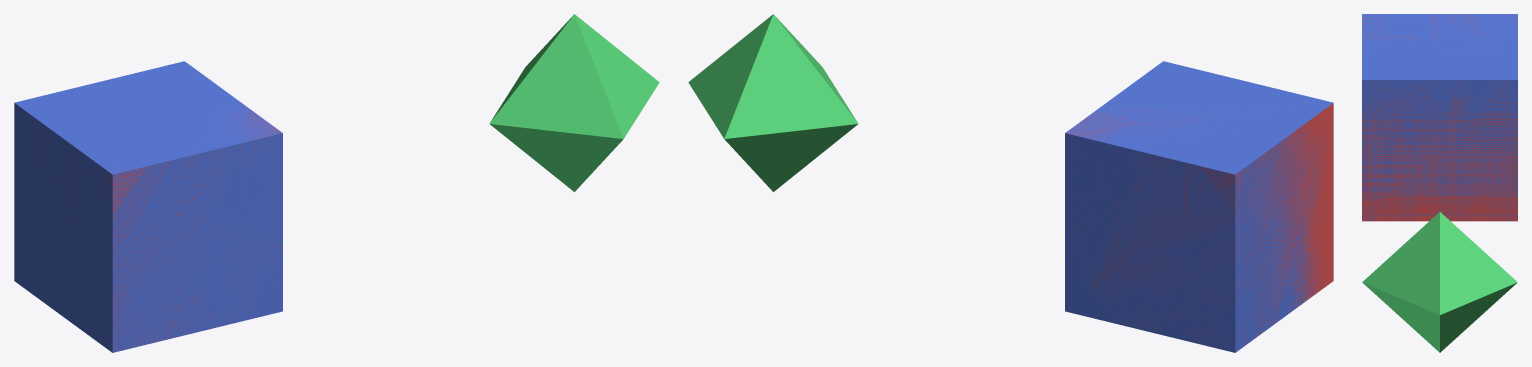
Rendered from smoke.glb.
The picture shows the model from 3 angles, left to right: view 1: azimuth 30°, elevation 25°; view 2: azimuth 150°, elevation 25°; view 3: azimuth 270°, elevation 25°; orthographic projection. The views are drawn at different scales.
Visible parts, largest first — view 1: boxB, octa, boxA; view 2: boxB, octa, boxA; view 3: boxB, boxA, octa.
Part boxes in pixels (x1,y1,x2,y2): boxB: [14, 61, 282, 352]; octa: [489, 14, 659, 191]; boxA: [35, 104, 281, 350]; boxB: [1065, 61, 1333, 352]; octa: [688, 14, 858, 191]; boxA: [1067, 103, 1333, 347]; boxB: [1362, 14, 1517, 221]; boxA: [1362, 14, 1517, 221]; octa: [1362, 212, 1517, 352].
Bounding box in the file's own units: 7 × 2 × 2.
